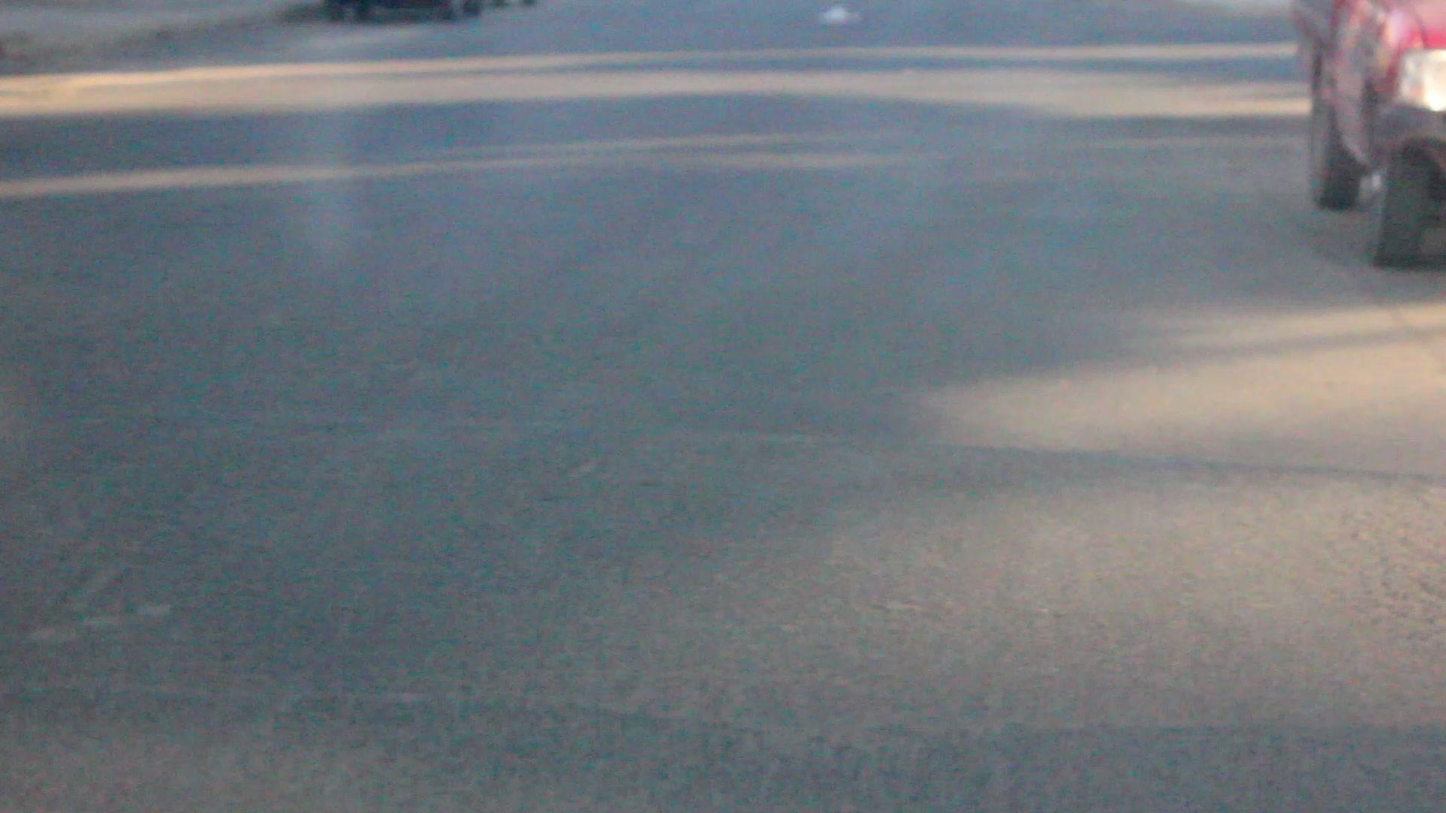Bump: (4, 629, 1446, 813)
